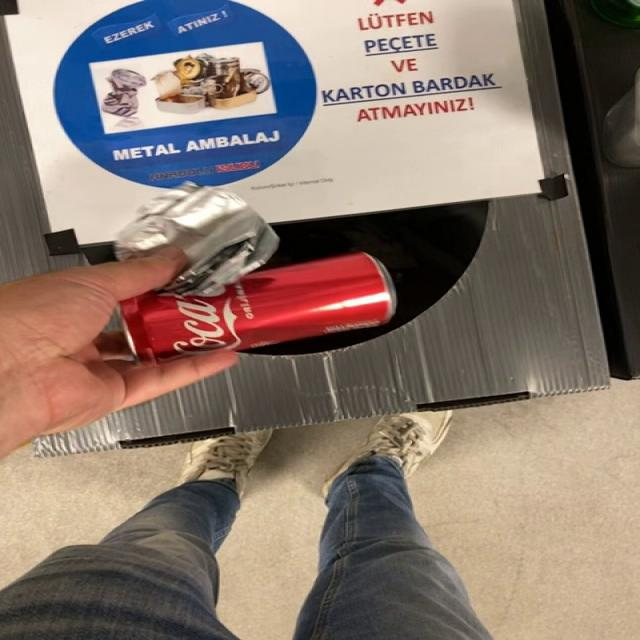bin: (1, 0, 609, 456)
metal: (120, 253, 396, 364)
